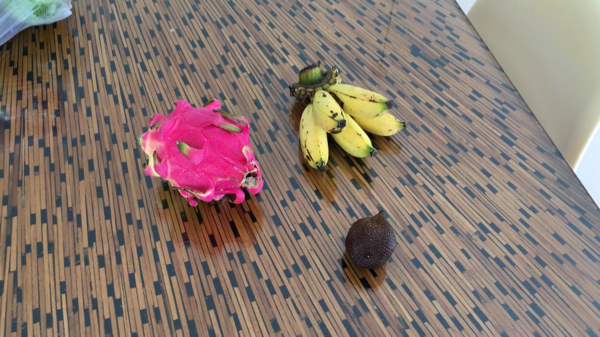banana: (291, 61, 401, 172)
dragon fruit: (139, 104, 260, 206)
snake fruit: (346, 216, 398, 265)
